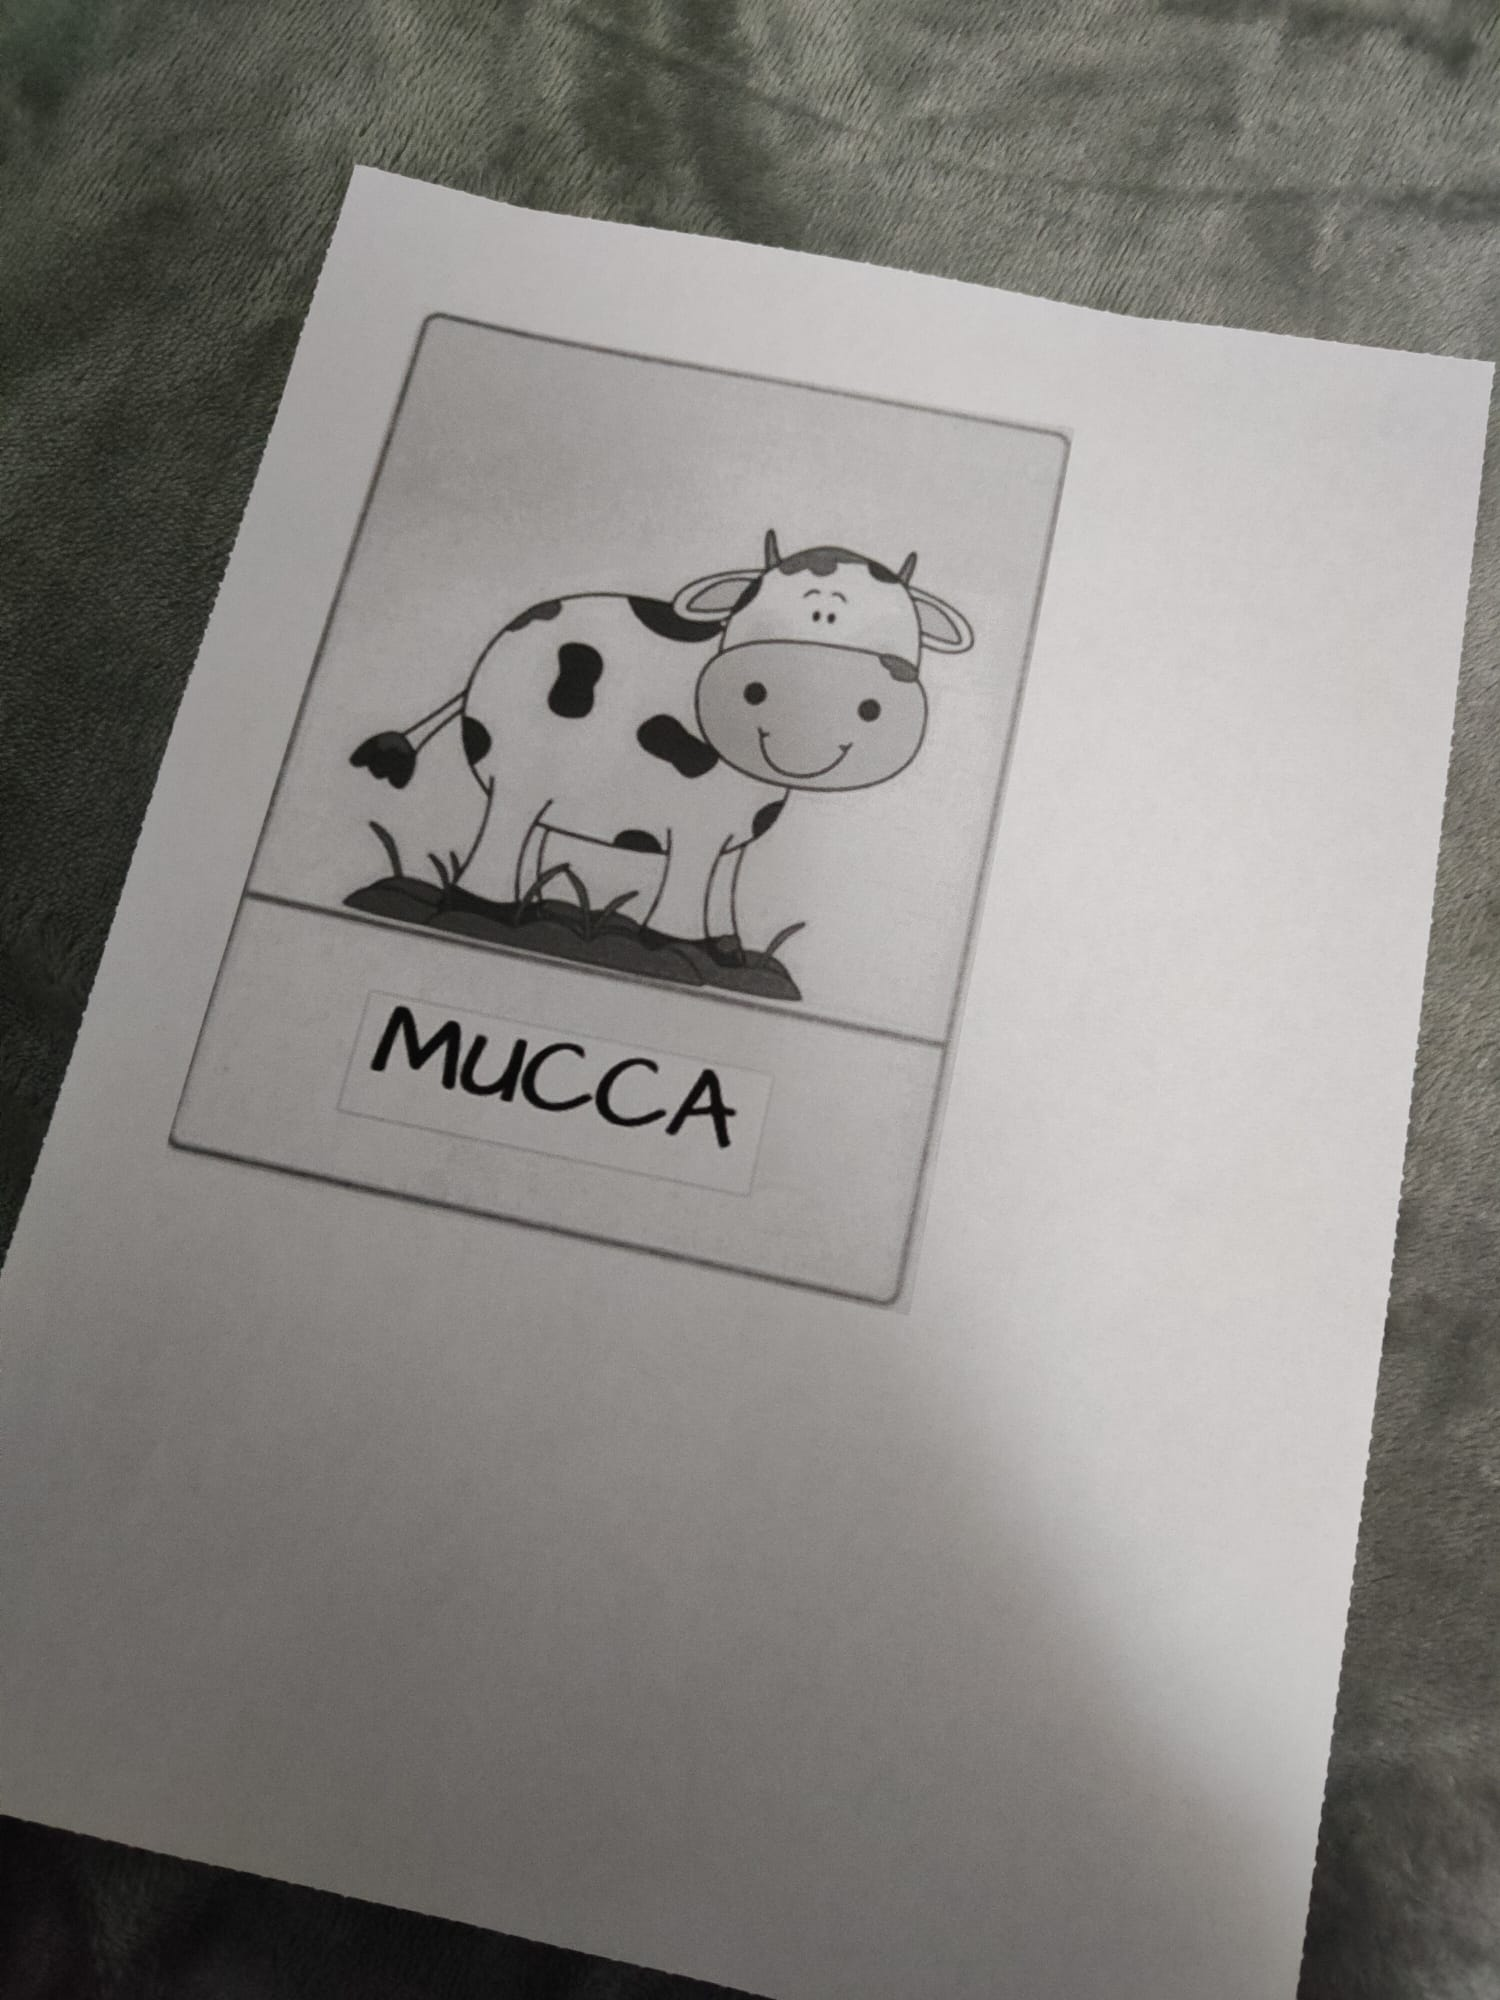mucca: (335, 291, 1006, 1268)
